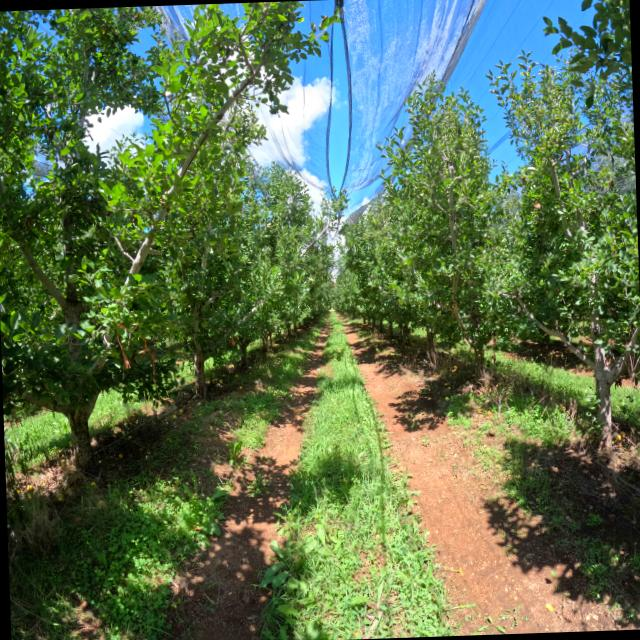-FireBlight-: (230, 337, 235, 345)
